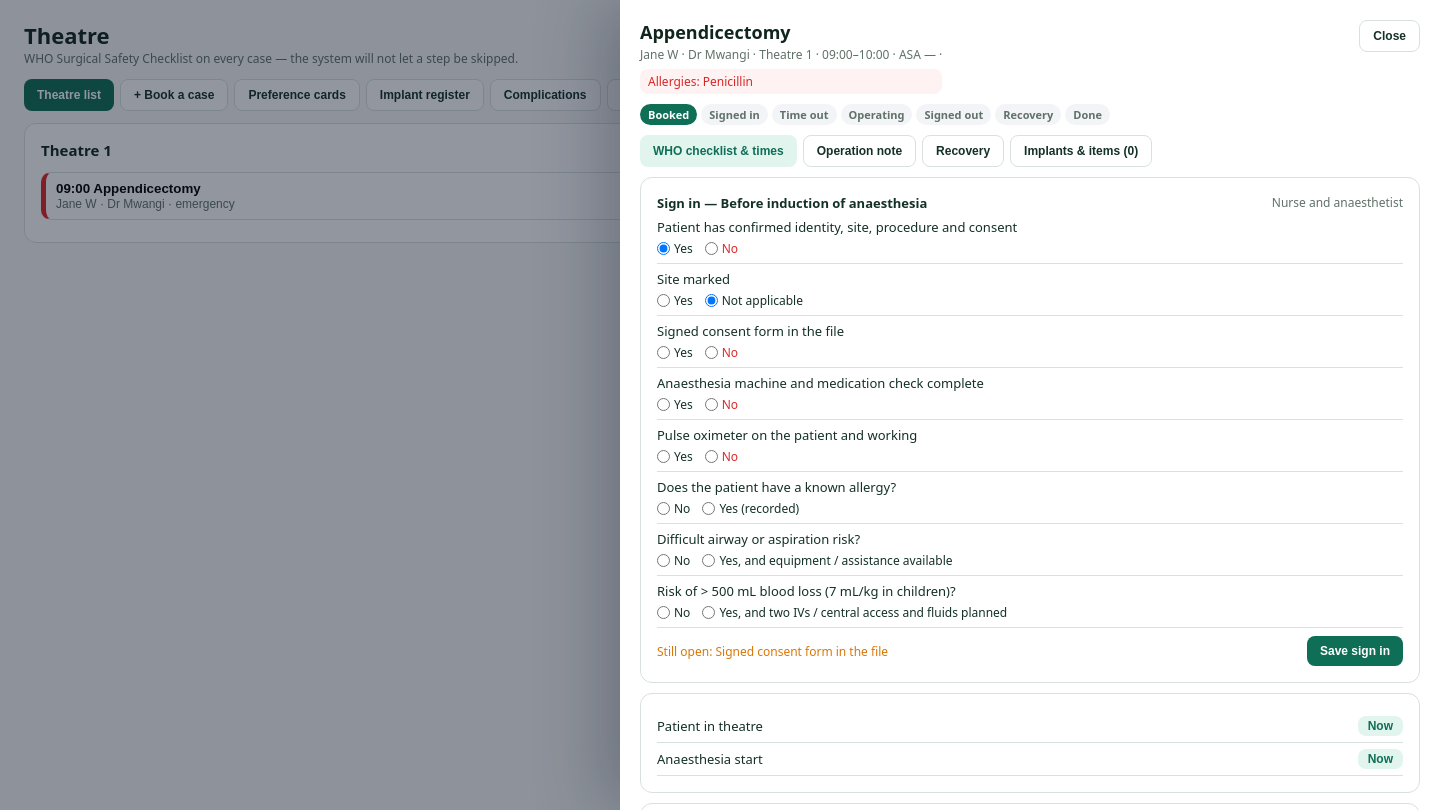
Test: theatre screen › lists the day by room and runs the WHO sign in item by item
The width and height of the screenshot is (1440, 810).
Earlier steps of the test are not shown.
Later steps or results of the test are not shown.
Click the 3rd radio button labelled "Yes" at x=664, y=352, box 657,346 -> 670,359
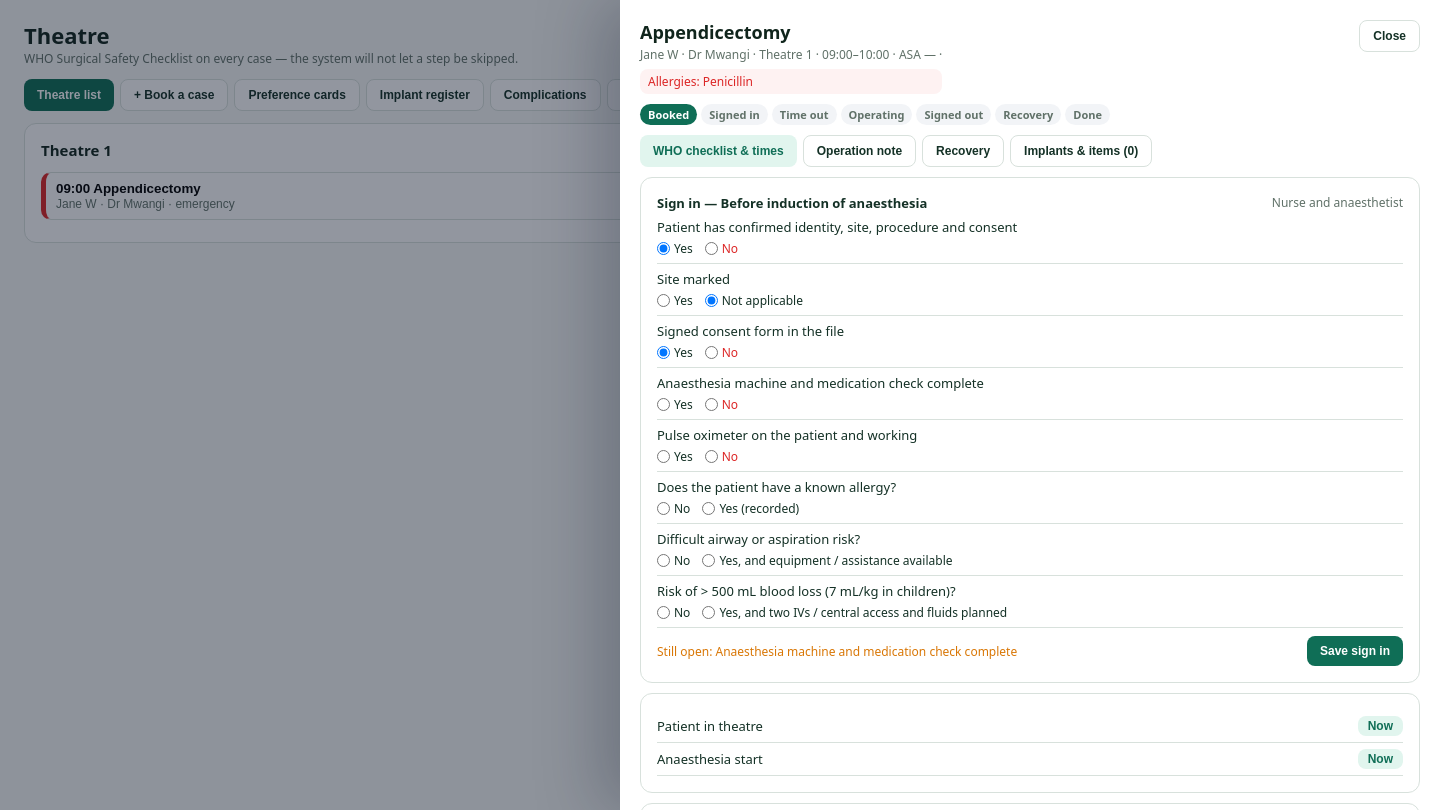
Click the 4th radio button labelled "Yes" at x=664, y=404, box 657,398 -> 670,411
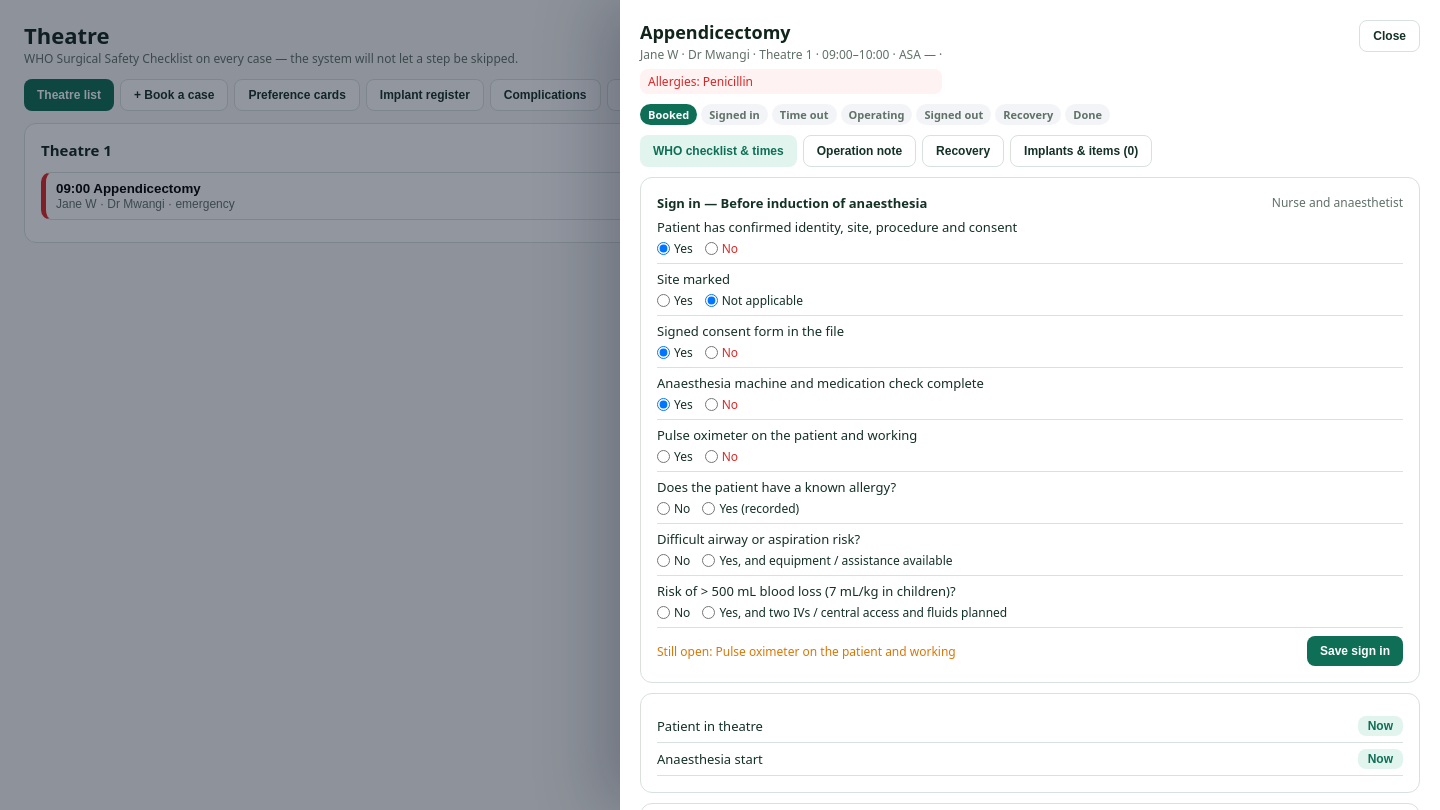
Click the 5th radio button labelled "Yes" at x=664, y=456, box 657,450 -> 670,463
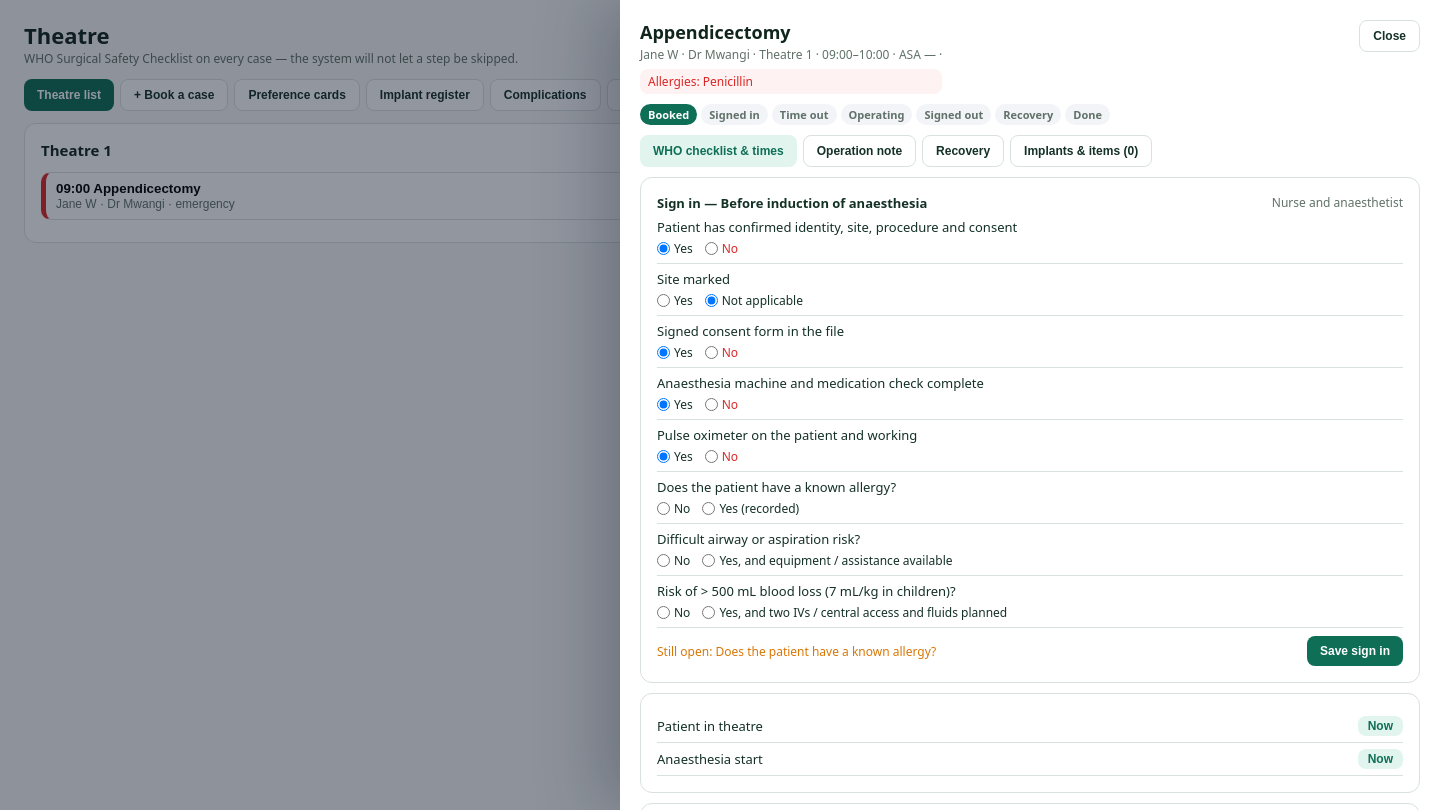
Click the radio button labelled "Yes (recorded)" at x=709, y=508, box 702,502 -> 715,515
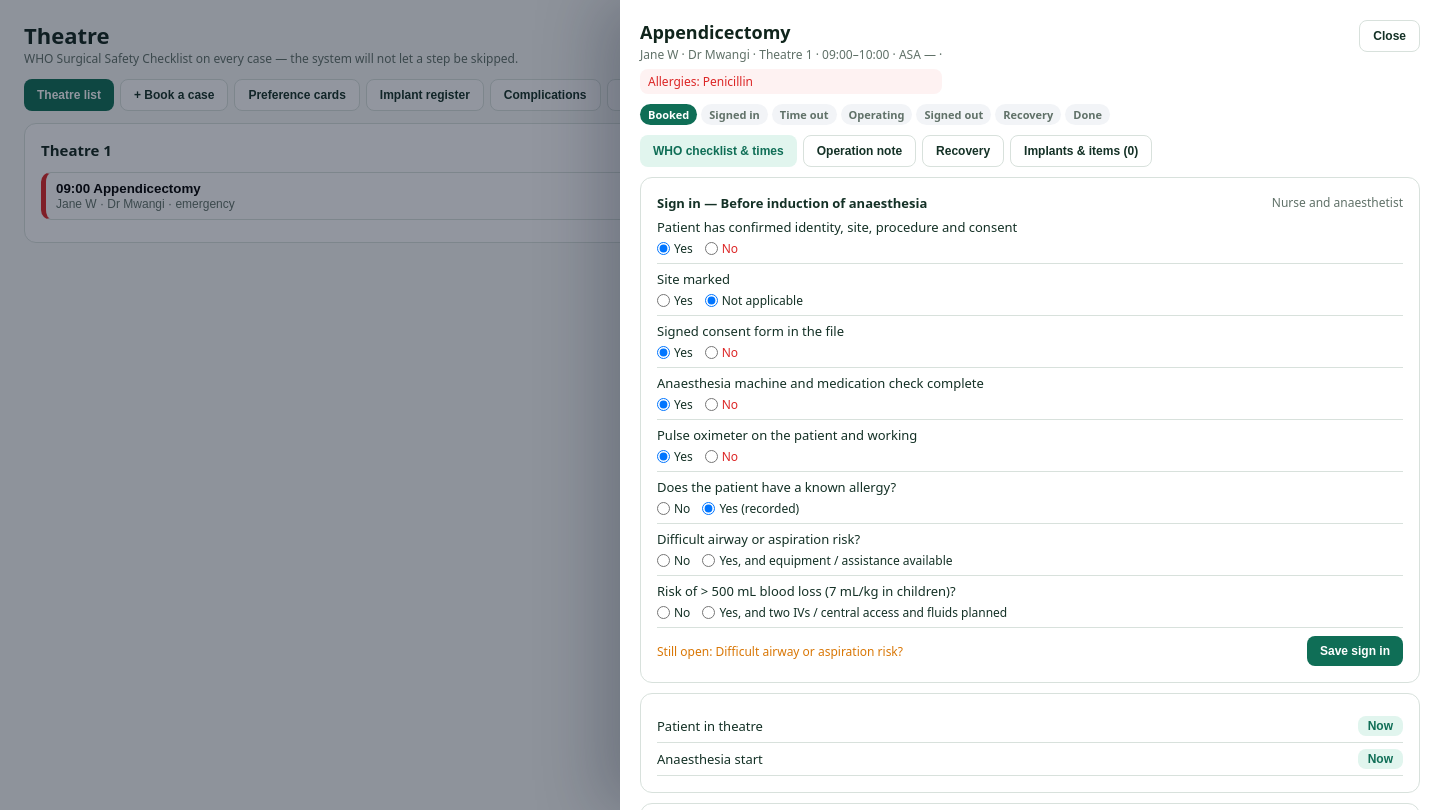
Click the 6th radio button labelled "No" at x=664, y=560, box 657,554 -> 670,567
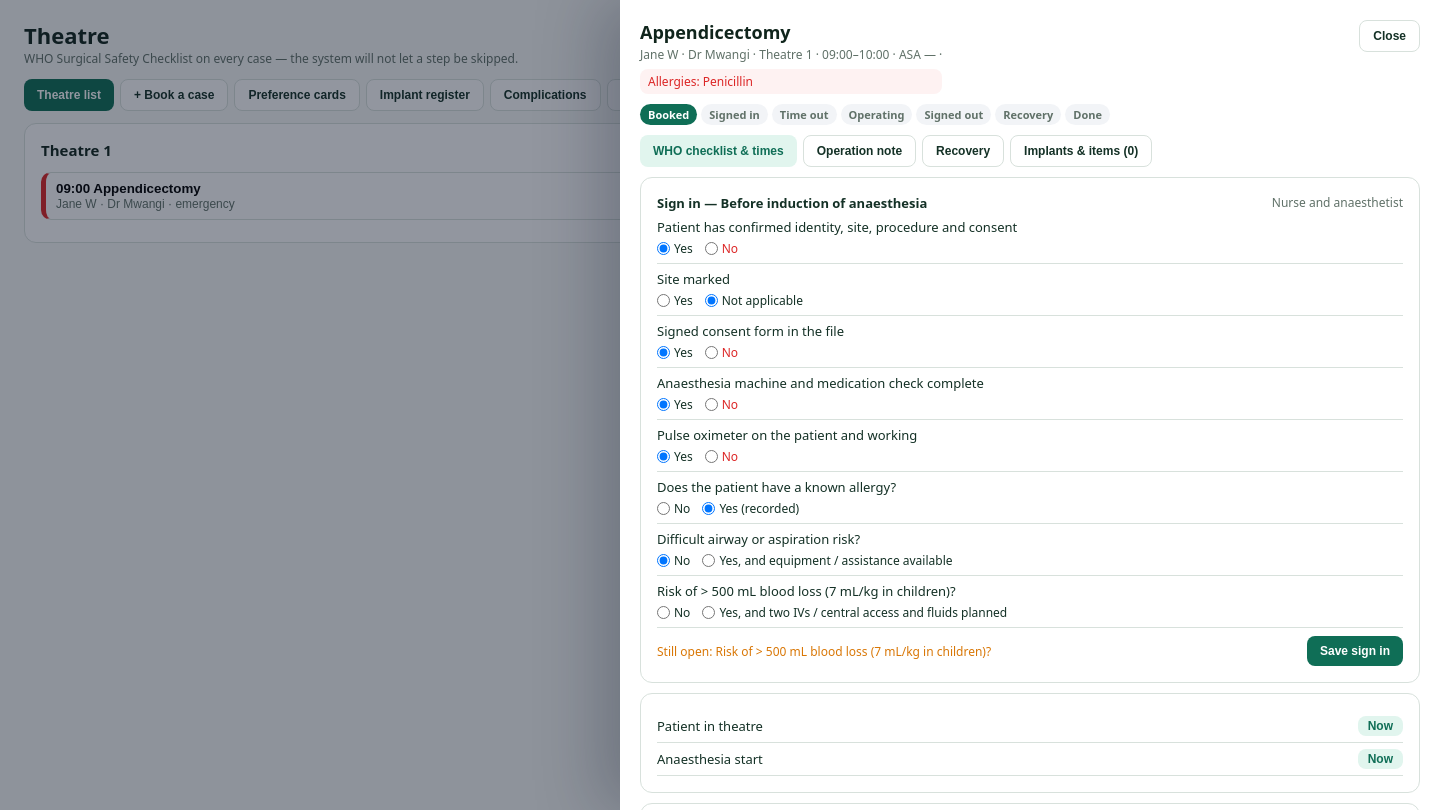
Click the 7th radio button labelled "No" at x=664, y=612, box 657,606 -> 670,619
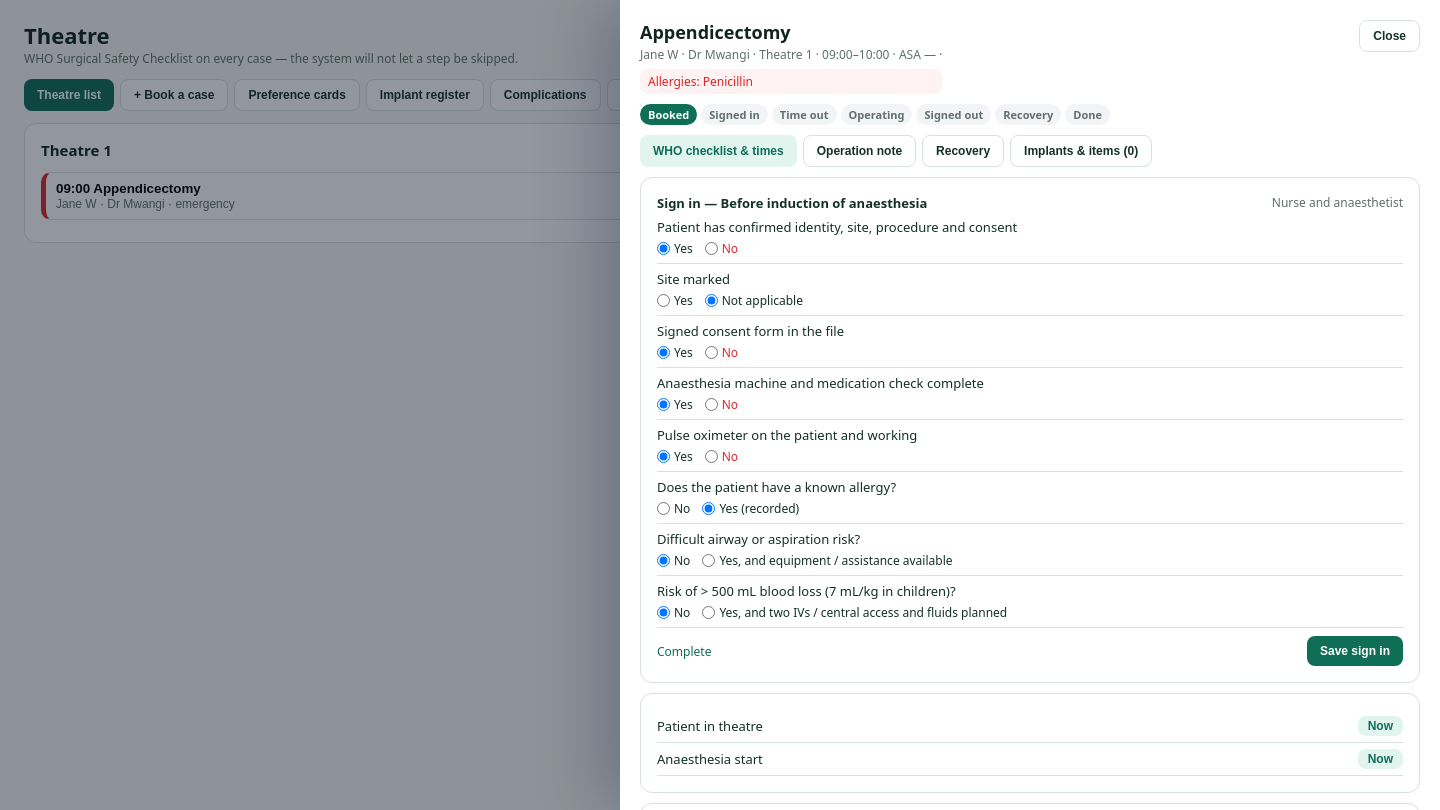
Result: the text "Complete" is shown at 657,642 -> 711,660
